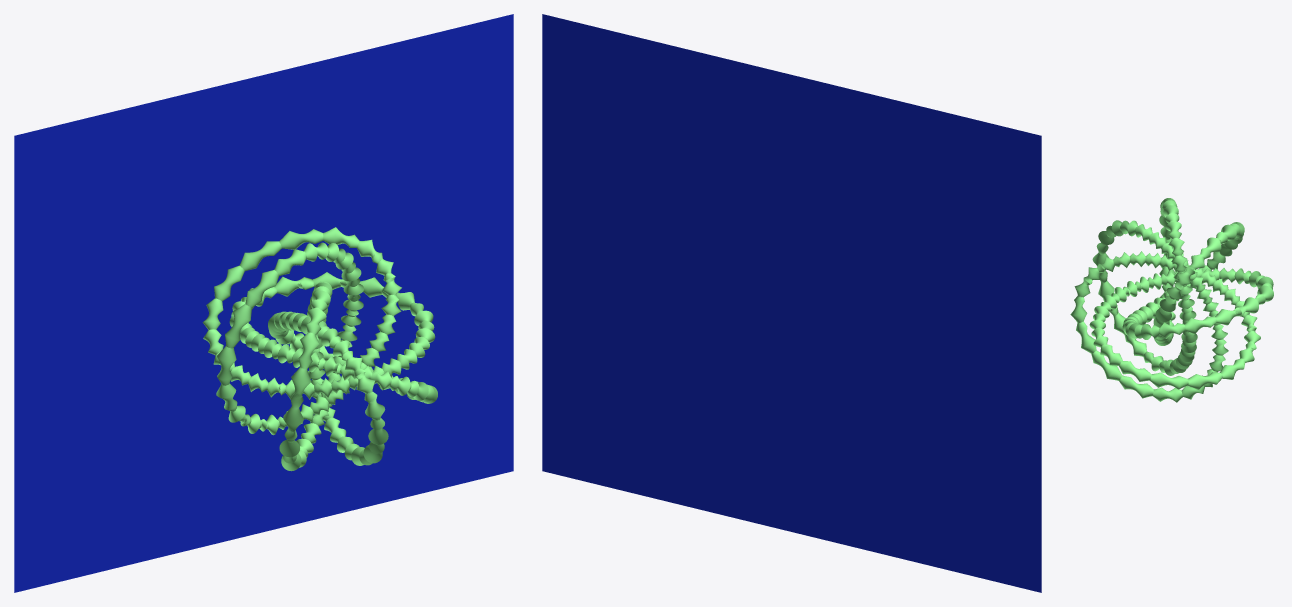
File: Abstract.obj
3 renders of one model, left to right at view 1: azimuth 30°, elevation 25°; view 2: azimuth 150°, elevation 25°; view 3: azimuth 270°, elevation 25°, orthographic. The views are drawn at different scales.
Bounding box in the file's own units: 166 × 146 × 72.38.
